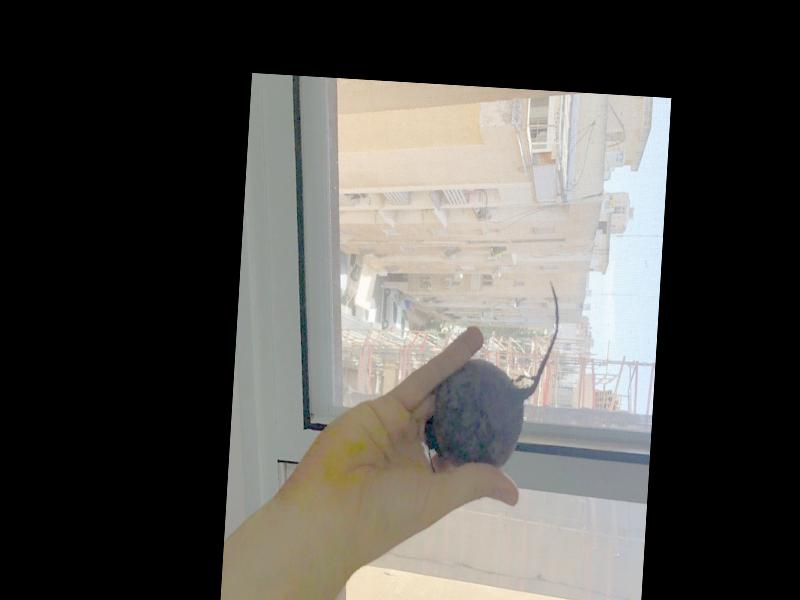Beet: (423, 273, 562, 470)
